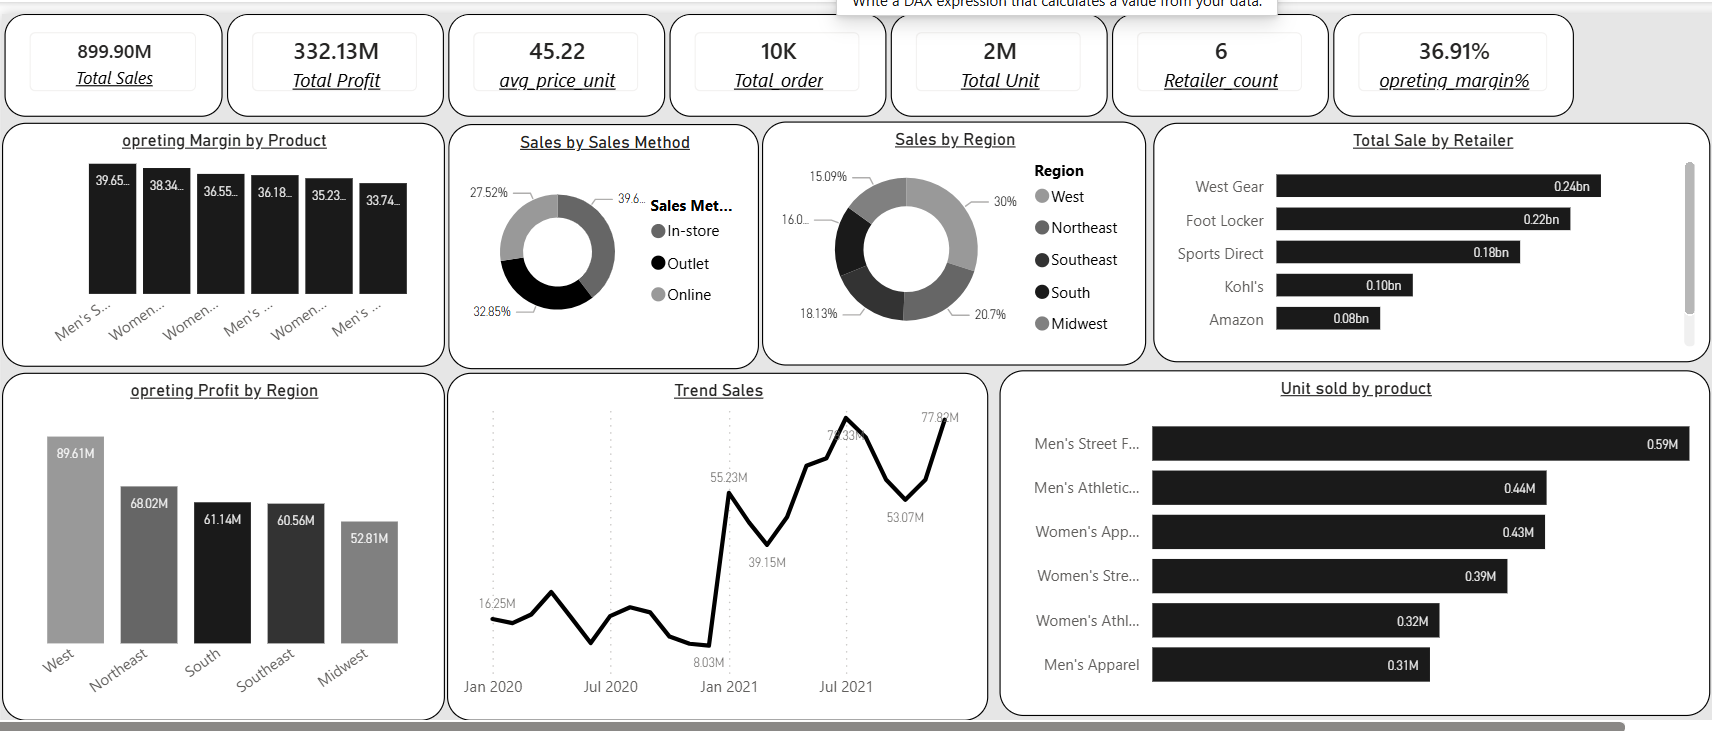

The page's visual inventory and layout, read from the dashboard file:
{"tool":"powerbi","page":{"name":"Page 1","canvas":[1280,720],"ordinal":0},"visuals":[{"type":"cardVisual","fields":{"Data":["Sum(Data Sales Adidas.Total Sales)"]},"box":[2.1,0,154,73],"z":0},{"type":"cardVisual","fields":{"Data":["Data Sales Adidas.Total Unit"]},"box":[629,0,153.6,73.2],"z":1000},{"type":"cardVisual","fields":{"Data":["Data Sales Adidas.Total Profit"]},"box":[159.1,0,153.6,73.2],"z":2000},{"type":"cardVisual","fields":{"Data":["Data Sales Adidas.Total_order"]},"box":[472.4,0,153.6,73.2],"z":3000},{"type":"cardVisual","fields":{"Data":["Data Sales Adidas.Retailer_count"]},"box":[785.6,0,153.6,73.2],"z":4000},{"type":"cardVisual","fields":{"Data":["Data Sales Adidas.avg_price_unit"]},"box":[315.7,0,153.6,73.2],"z":5000},{"type":"cardVisual","fields":{"Data":["Data Sales Adidas.opreting_margin%"]},"box":[942.3,0,170.1,73.2],"z":6000},{"type":"clusteredBarChart","title":"Total Sale by Retailer","fields":{"Category":["Data Sales Adidas.Retailer"],"Y":["Data Sales Adidas.Total Sale"]},"box":[815,77,394.7,169.9],"z":7000},{"type":"clusteredBarChart","title":"Unit sold by product","fields":{"Category":["Data Sales Adidas.Product"],"Y":["Sum(Data Sales Adidas.Units Sold)"]},"box":[706.2,252.2,503.5,245.1],"z":8000},{"type":"clusteredColumnChart","title":"opreting Profit by Region","fields":{"Category":["Data Sales Adidas.Region"],"Y":["Data Sales Adidas.Total Profit"]},"box":[0,254,313.3,246],"z":9000},{"type":"clusteredColumnChart","title":"opreting Margin by Product","fields":{"Category":["Data Sales Adidas.Product"],"Y":["Data Sales Adidas.opreting_margin%"]},"box":[0,77,313.3,172.6],"z":10000},{"type":"donutChart","title":"Sales by Region","fields":{"Category":["Data Sales Adidas.Region"],"Y":["Sum(Data Sales Adidas.Total Sales)"]},"box":[538.1,76.1,272,173],"z":11000},{"type":"donutChart","title":"Sales by Sales Method","fields":{"Category":["Data Sales Adidas.Sales Method"],"Y":["Sum(Data Sales Adidas.Total Sales)"]},"box":[315.9,77.9,220.4,173.5],"z":12000},{"type":"lineChart","title":"Trend Sales","fields":{"Y":["Sum(Data Sales Adidas.Total Sales)"],"Category":["Data Sales Adidas.Invoice Date.Variation.Date Hierarchy.Year","Data Sales Adidas.Invoice Date.Variation.Date Hierarchy.Month"]},"box":[315,254,383.2,246],"z":13000}]}

Visuals, with their boxes on the page's 1280x720 design canvas (x1, y1, x2, y2). These are canvas units, not pixel positions in the 1712x731 screenshot, which may show the page scaled, cropped or inside an application window:
cardVisual - Sum(Data Sales Adidas.Total Sales): bbox(2, 0, 156, 73)
cardVisual - Data Sales Adidas.Total Unit: bbox(629, 0, 783, 73)
cardVisual - Data Sales Adidas.Total Profit: bbox(159, 0, 313, 73)
cardVisual - Data Sales Adidas.Total_order: bbox(472, 0, 626, 73)
cardVisual - Data Sales Adidas.Retailer_count: bbox(786, 0, 939, 73)
cardVisual - Data Sales Adidas.avg_price_unit: bbox(316, 0, 469, 73)
cardVisual - Data Sales Adidas.opreting_margin%: bbox(942, 0, 1112, 73)
"Total Sale by Retailer" clusteredBarChart: bbox(815, 77, 1210, 247)
"Unit sold by product" clusteredBarChart: bbox(706, 252, 1210, 497)
"opreting Profit by Region" clusteredColumnChart: bbox(0, 254, 313, 500)
"opreting Margin by Product" clusteredColumnChart: bbox(0, 77, 313, 250)
"Sales by Region" donutChart: bbox(538, 76, 810, 249)
"Sales by Sales Method" donutChart: bbox(316, 78, 536, 251)
"Trend Sales" lineChart: bbox(315, 254, 698, 500)
